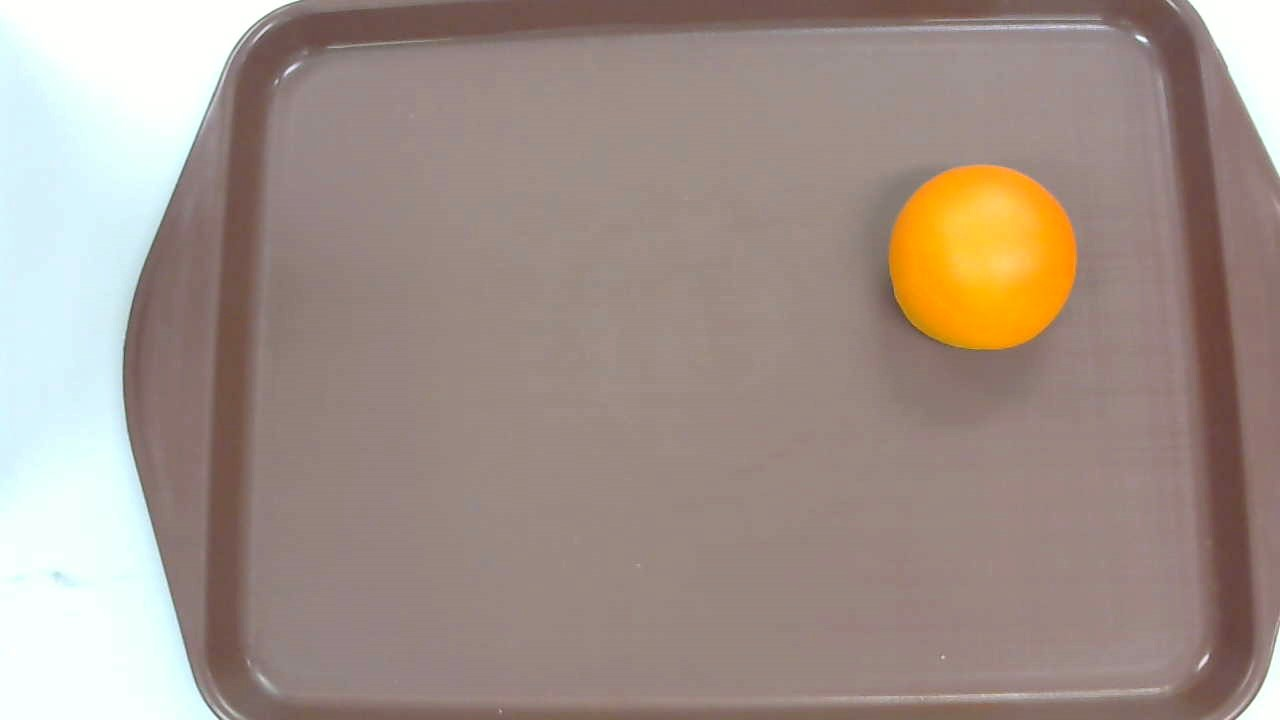bun: (888, 163, 1078, 352)
